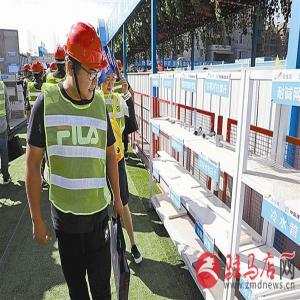red: (67, 23, 102, 102), (33, 60, 47, 83), (54, 47, 66, 70), (23, 64, 33, 79)
